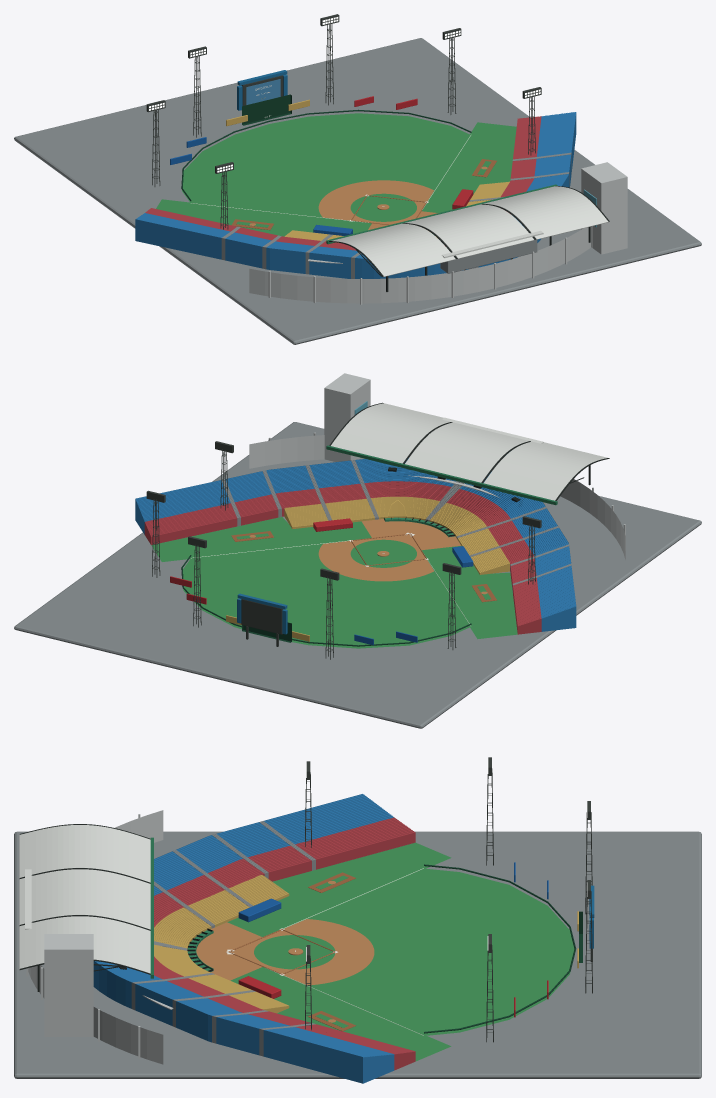
The model's file is estadio-quisqueya-pre-phase2-20260907.glb.
The picture shows the model from 3 angles, top to bottom: view 1: azimuth 30°, elevation 25°; view 2: azimuth 150°, elevation 25°; view 3: azimuth 270°, elevation 25°; orthographic projection. The views are drawn at different scales.
Parts seen in each view (by area): view 1: stadium_site, field_grass, grandstand_outer_facade, field_apron_home_backstop, section_bleachers_left, roof_panel_right, main_grandstand_roof, roof_panel_left, section_palco_aa, grandstand_service_tower_right, section_bleachers_right, infield_clay (+12 smaller); view 2: stadium_site, field_grass, field_apron_home_backstop, section_palco_aa, section_bleachers_right, section_palco_a, section_bleachers_left, main_grandstand_roof, roof_panel_right, roof_panel_left, grandstand_outer_facade, infield_clay (+8 smaller); view 3: stadium_site, field_grass, field_apron_home_backstop, section_bleachers_right, section_palco_aa, section_bleachers_left, section_palco_a, main_grandstand_roof, roof_panel_left, grandstand_service_tower_right, roof_panel_right, infield_clay (+6 smaller).
Boxes of the visible parts, x1,y1,x2,y2 form: stadium_site: (14,38,701,344); field_grass: (182,113,469,217); grandstand_outer_facade: (249,227,591,303); field_apron_home_backstop: (156,122,516,236); section_bleachers_left: (135,213,468,278); roof_panel_right: (483,186,608,239); main_grandstand_roof: (405,204,533,258); roof_panel_left: (331,223,455,276); section_palco_aa: (145,116,541,250); grandstand_service_tower_right: (581,162,627,254); section_bleachers_right: (478,112,576,267); infield_clay: (318,180,433,224); stadium_site: (14,422,701,728); field_grass: (183,544,469,648); field_apron_home_backstop: (151,517,517,639); section_palco_aa: (144,481,541,634); section_bleachers_right: (135,458,455,534); section_palco_a: (284,496,509,574); section_bleachers_left: (459,471,576,631); main_grandstand_roof: (405,422,528,482); roof_panel_right: (331,403,450,463); roof_panel_left: (483,441,607,500); grandstand_outer_facade: (249,435,625,559); infield_clay: (318,534,433,581); stadium_site: (14,831,701,1078); field_grass: (307,869,574,1035); field_apron_home_backstop: (196,842,451,1061); section_bleachers_right: (93,961,394,1083); section_palco_aa: (154,817,415,1070); section_bleachers_left: (154,794,394,895); section_palco_a: (154,875,289,1013); main_grandstand_roof: (19,869,150,929); roof_panel_left: (19,825,150,882); grandstand_service_tower_right: (44,934,93,1036); roof_panel_right: (19,916,150,973); infield_clay: (231,919,374,985).
Size of the model in its own units: 226 by 44.9 by 250.
